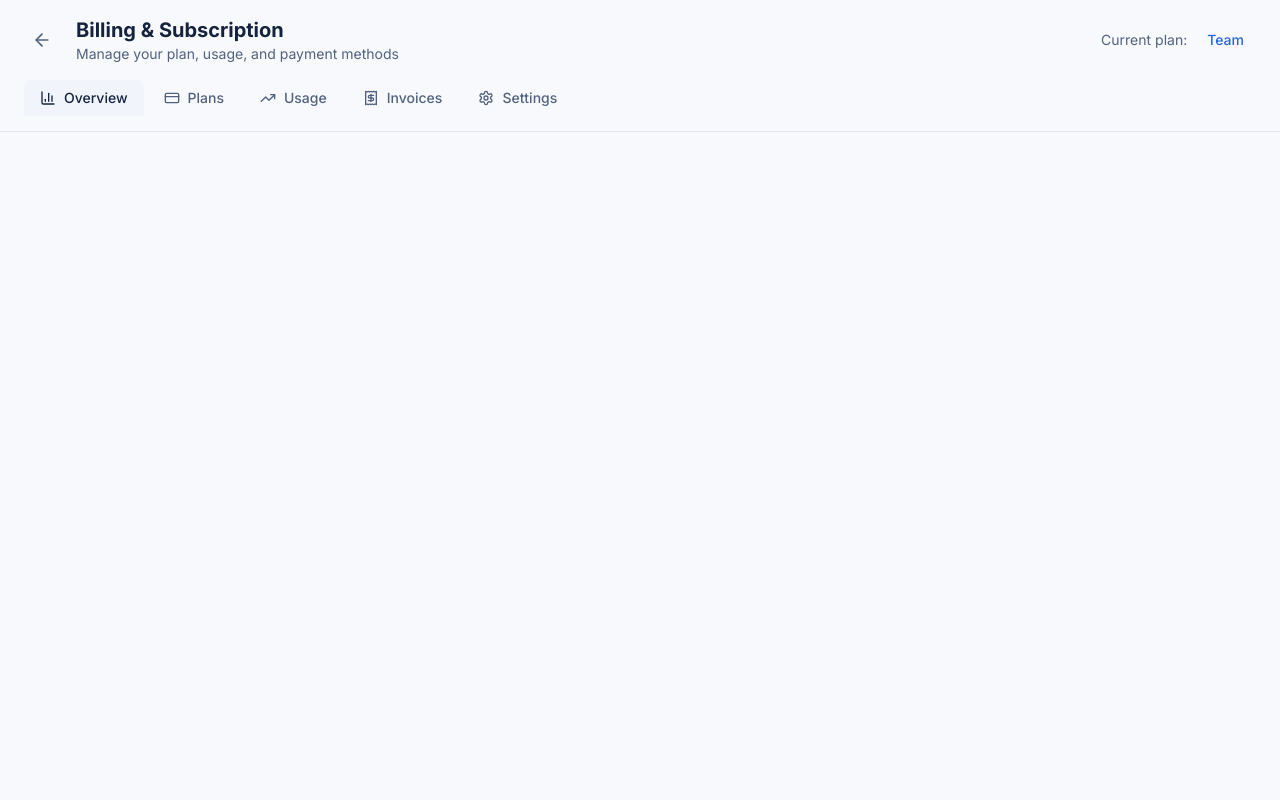
Test: Billing usage history › says there is no data rather than drawing an empty chart
What coordinates should you click on to do the following:
click the button "Usage"
I would click on:
 (293, 98)
Its box is [244, 80, 343, 116].
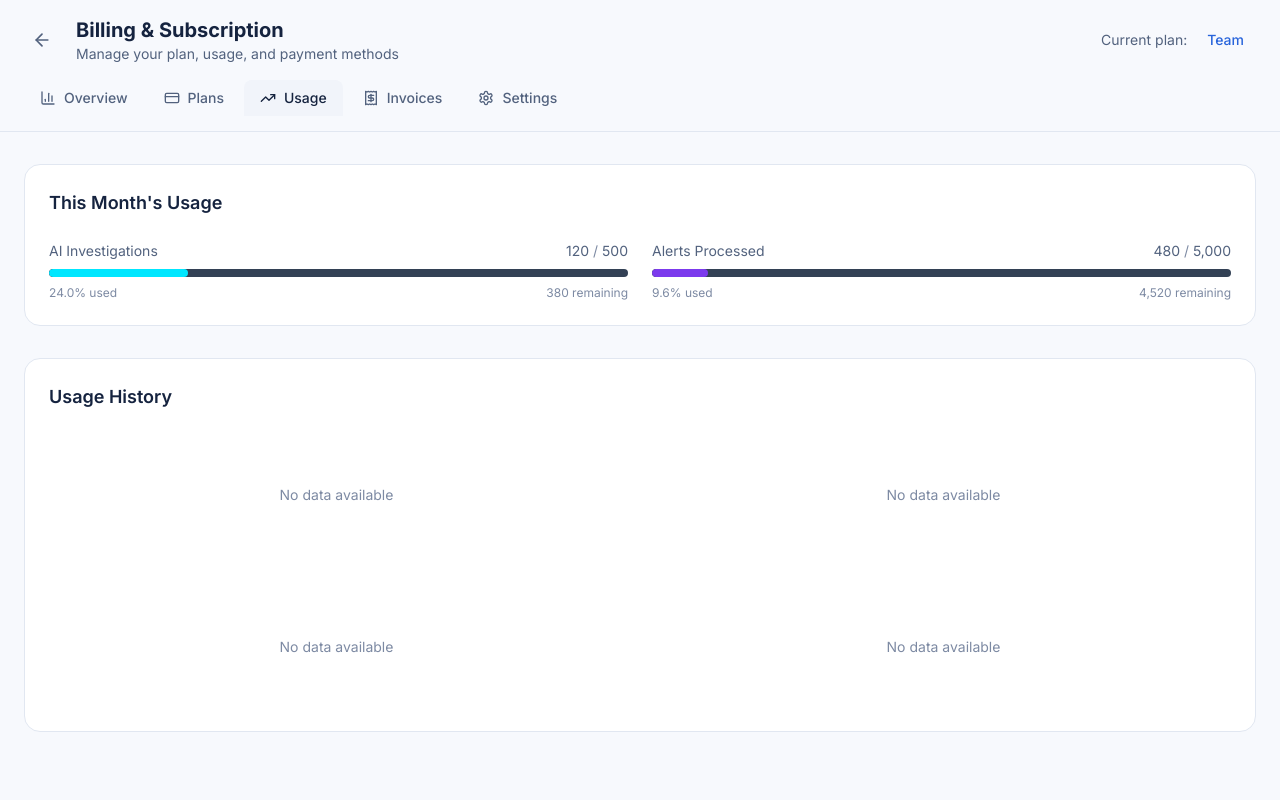
Result: the text "No data available" is shown 4 times at [280, 485, 394, 505]; [887, 485, 1000, 505]; [280, 637, 394, 657]; [887, 637, 1000, 657]
